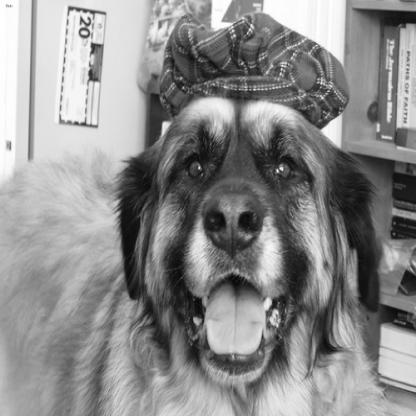Leonberger: (87, 86, 400, 393)
